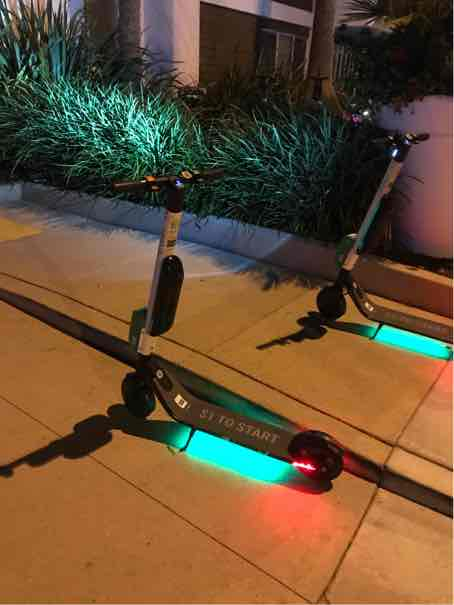scooter: (108, 142, 351, 489)
